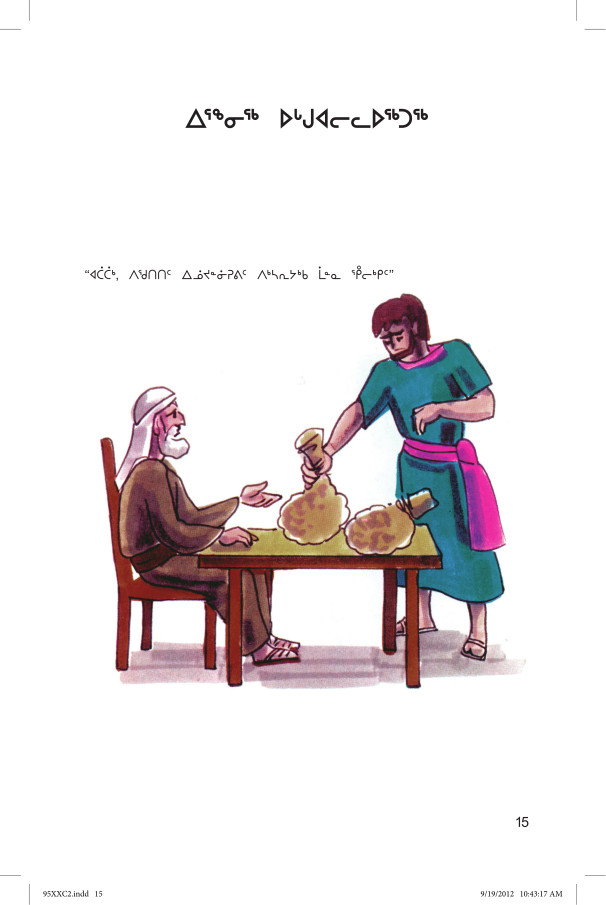inuktitut: (74, 256, 401, 286), (180, 101, 436, 139)
